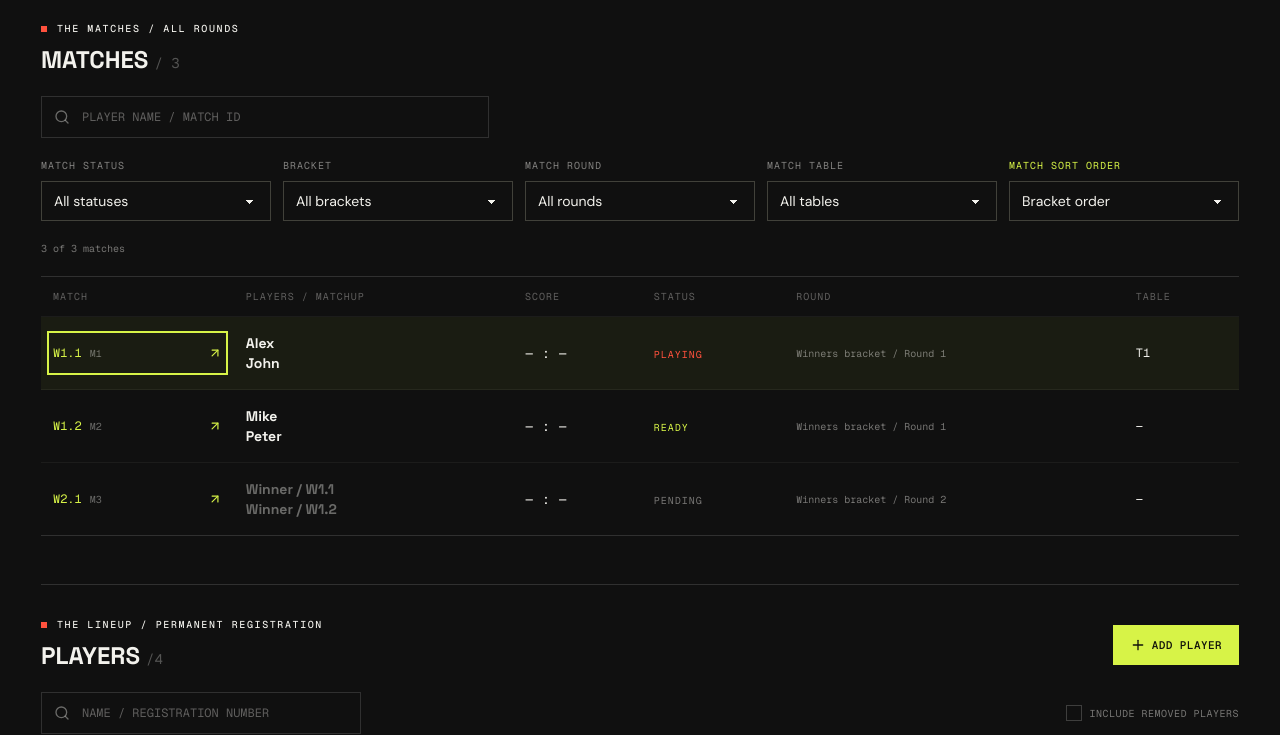
Test: live tournament room › opens the usual match modal from the match list at 1440 px with admin=true
(page scrolled)
Press Enter
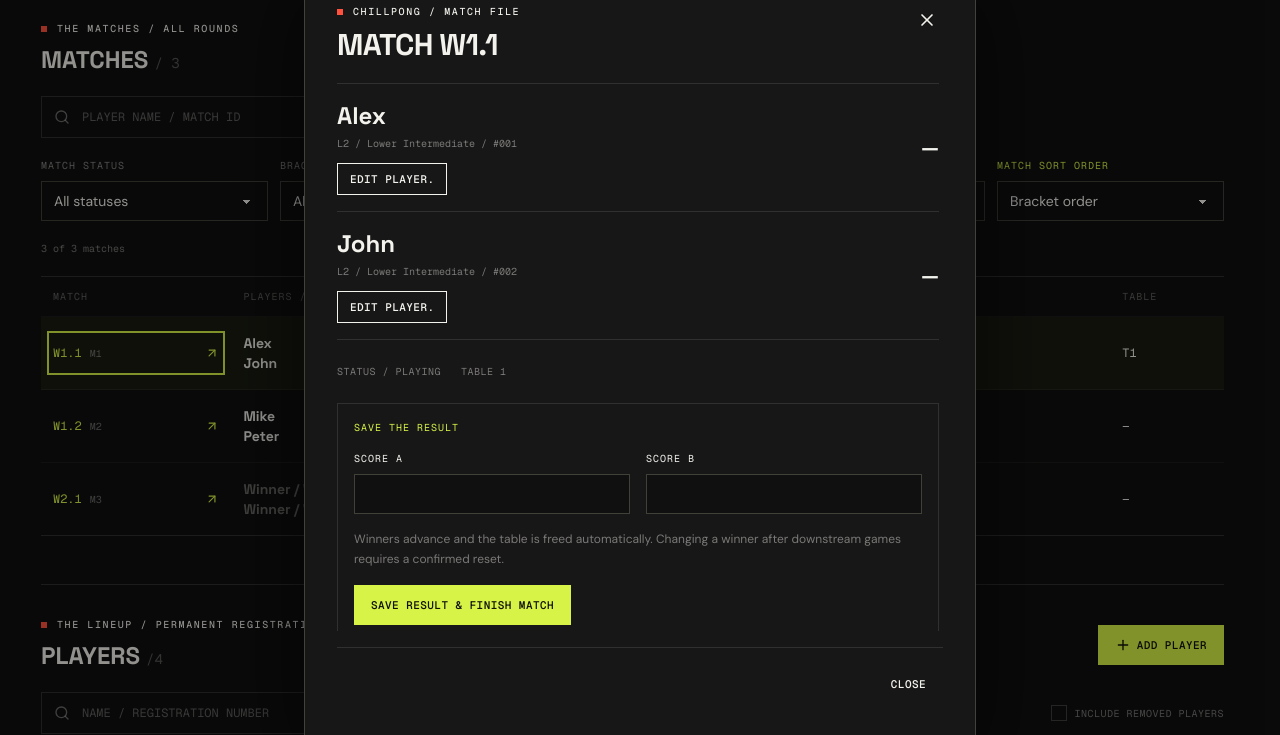
Result: the text "Alex" is shown at [337,100,386,132]
Result: the text "John" is shown at [337,228,395,260]
Result: the button with aria-label "Edit Alex" is enabled at [337,163,448,195]
Type "0" into the number field labelled "Score A" at (492, 494), box [354,474,630,514]
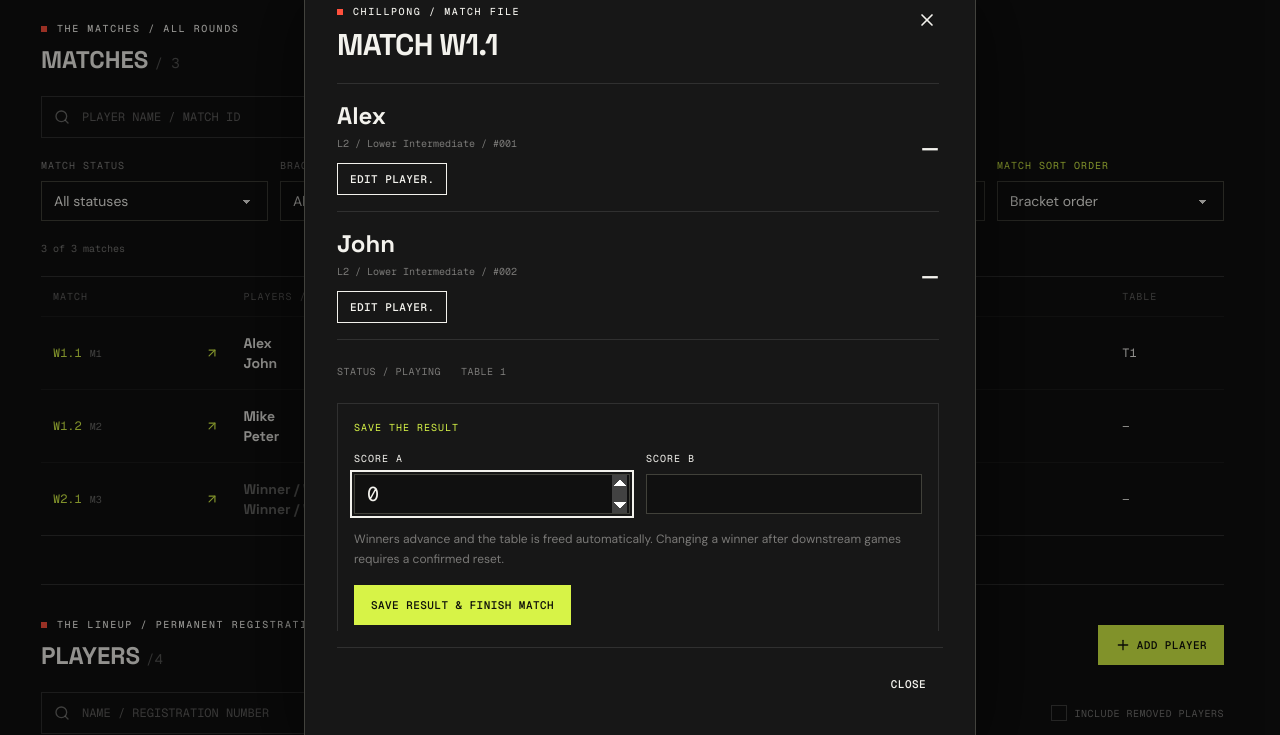
Type "11" into the number field labelled "Score B" at (784, 494), box [646,474,922,514]
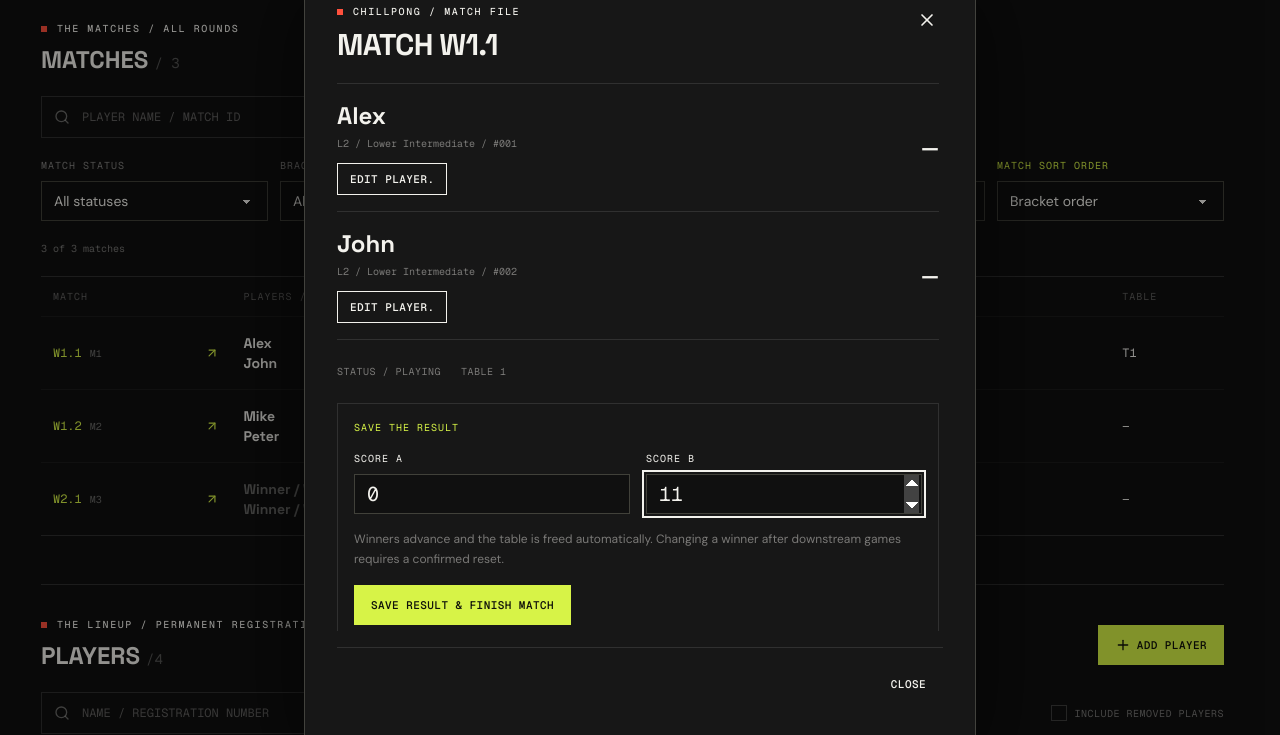
Click the button "Save result & finish match" at (462, 605), box [354,585,571,625]
(page scrolled)
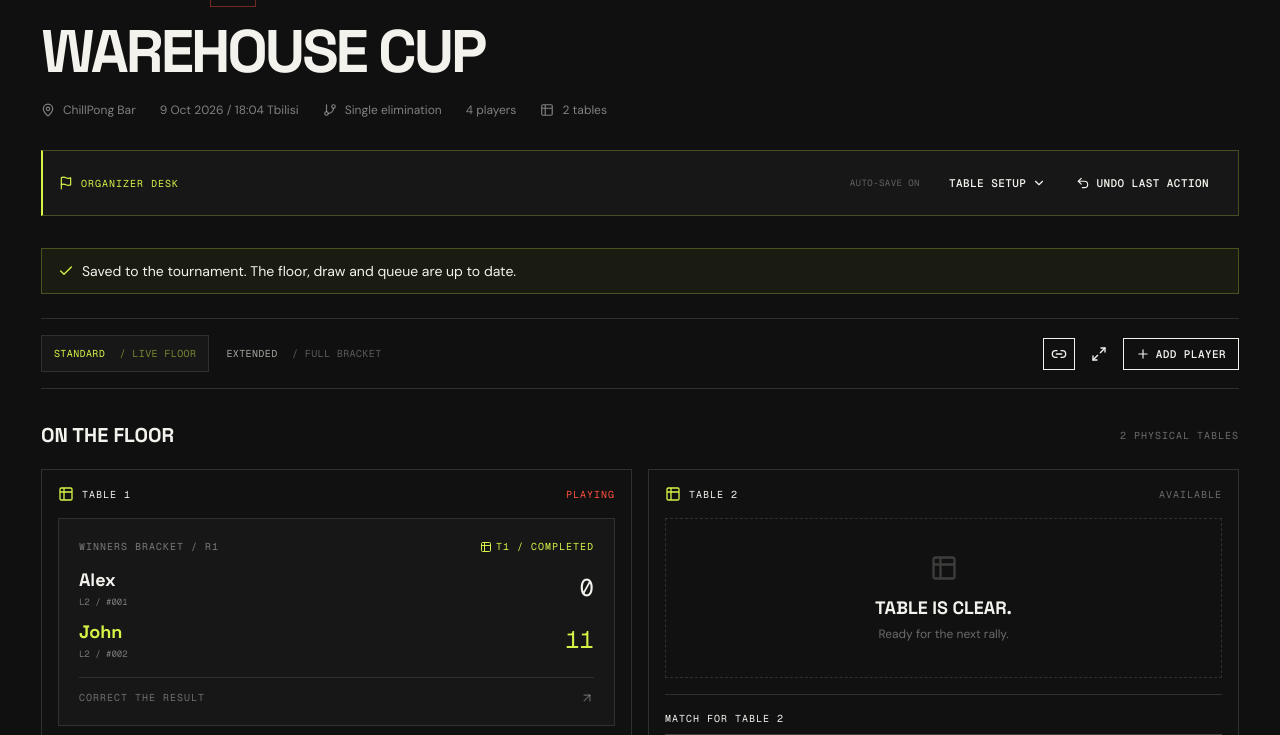
Click the button with aria-label "Extended view" at (304, 354), box [213,335,395,372]
(page scrolled)
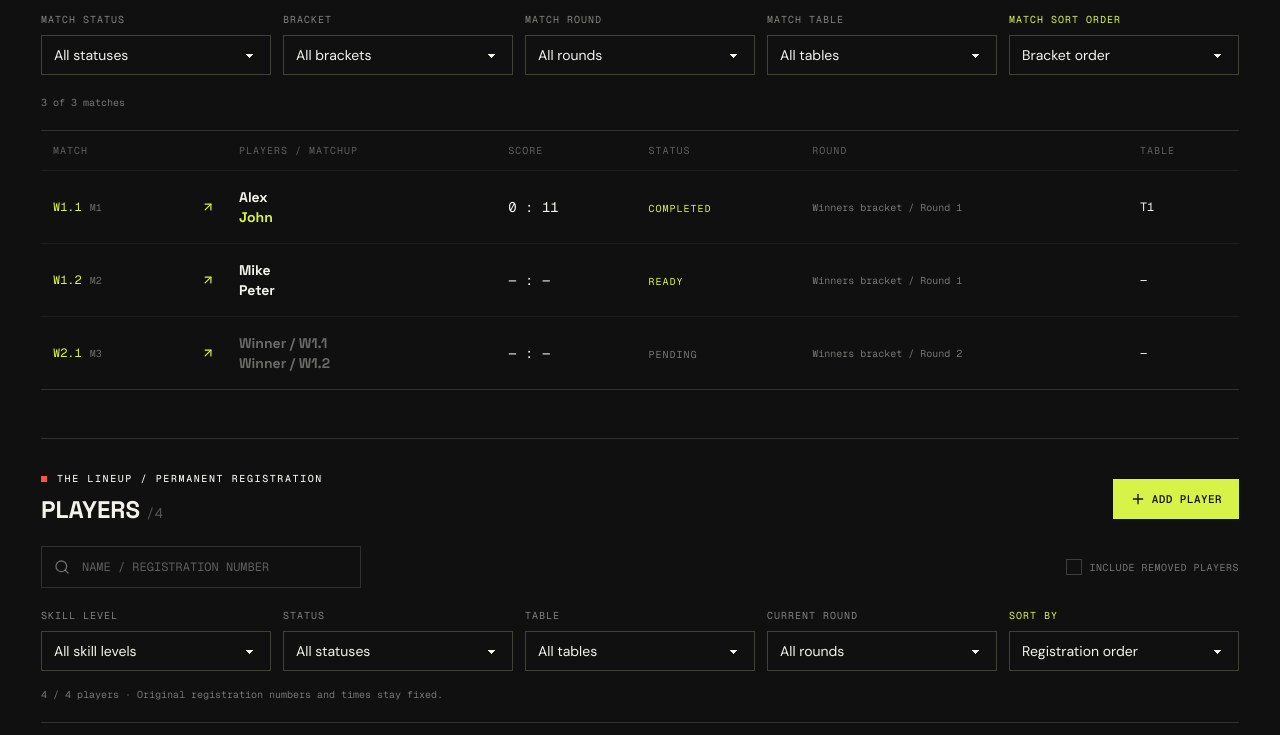
Click the row with test id "match.row.3" at (283, 343), box [41,317,1239,389]
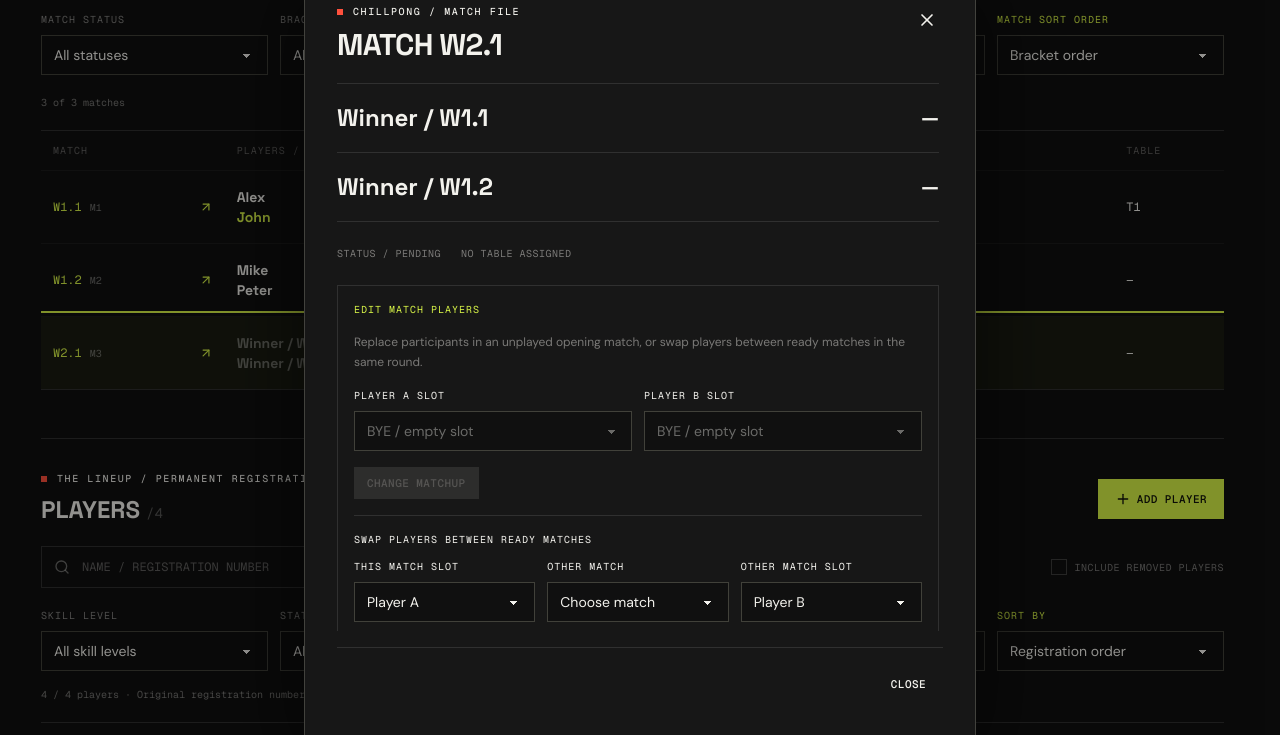
Expected: the text labelled "Score A" is not shown
Result: the text "Winner / W1.1" is shown at [337,102,488,134]
Result: the text "Winner / W1.2" is shown at [337,171,493,203]
